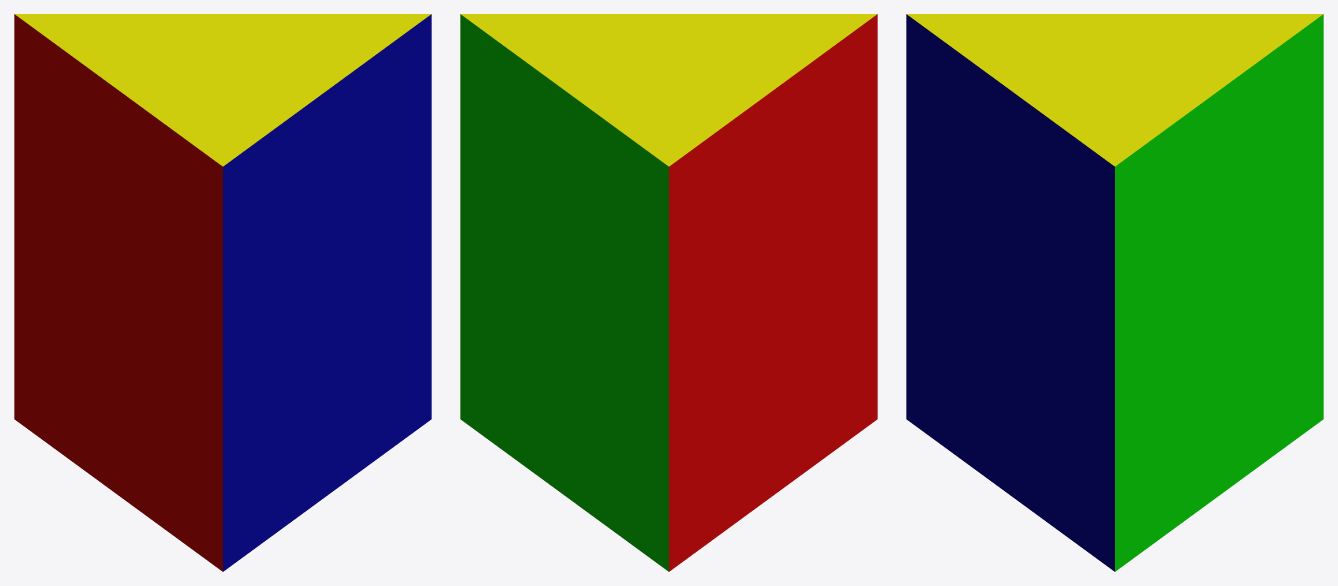
File: color_primitive_TriangularPillar.fbx
The picture shows the model from 3 angles, left to right: view 1: azimuth 30°, elevation 25°; view 2: azimuth 150°, elevation 25°; view 3: azimuth 270°, elevation 25°; orthographic projection.
Parts seen in each view (by area): view 1: pCylinder1; view 2: pCylinder1; view 3: pCylinder1.
Boxes of the visible parts, left/top/right/bottom form: pCylinder1: left=14, top=14, right=431, bottom=571; pCylinder1: left=460, top=14, right=877, bottom=571; pCylinder1: left=906, top=14, right=1323, bottom=571.
Bounding box in the file's own units: 6.06 × 7.5 × 7.
